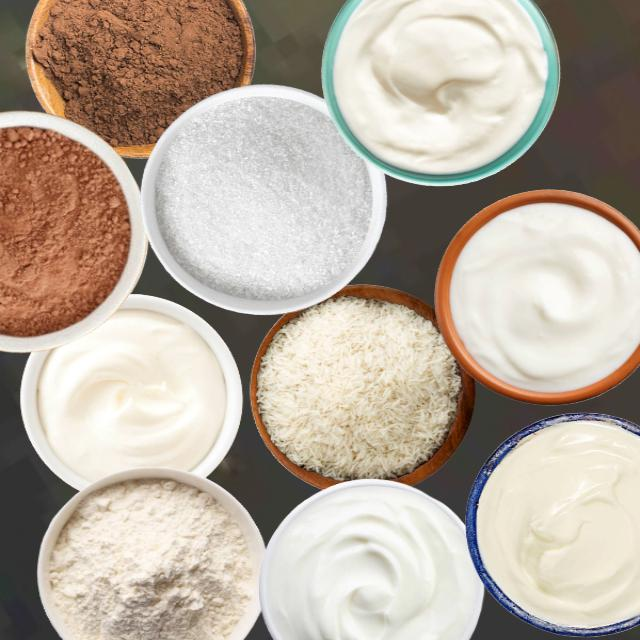Cocoa: (29, 0, 247, 148), (0, 123, 131, 337)
Flour: (47, 479, 252, 639)
Sugar: (154, 94, 373, 300)
